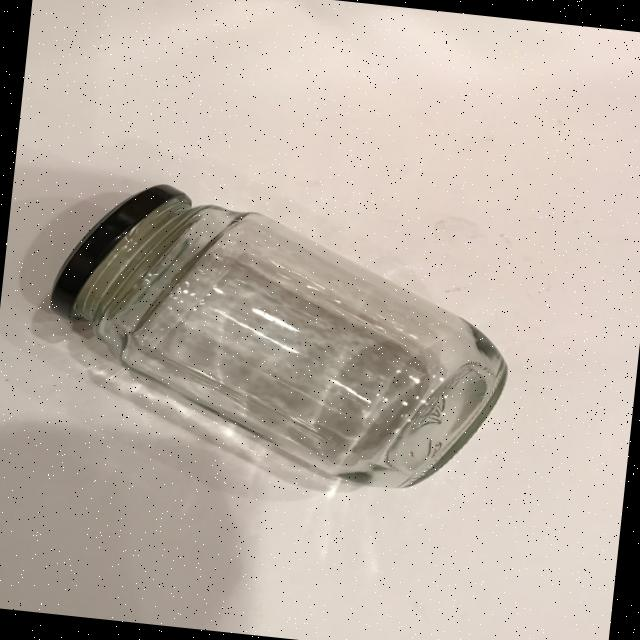glass: (12, 145, 545, 518)
